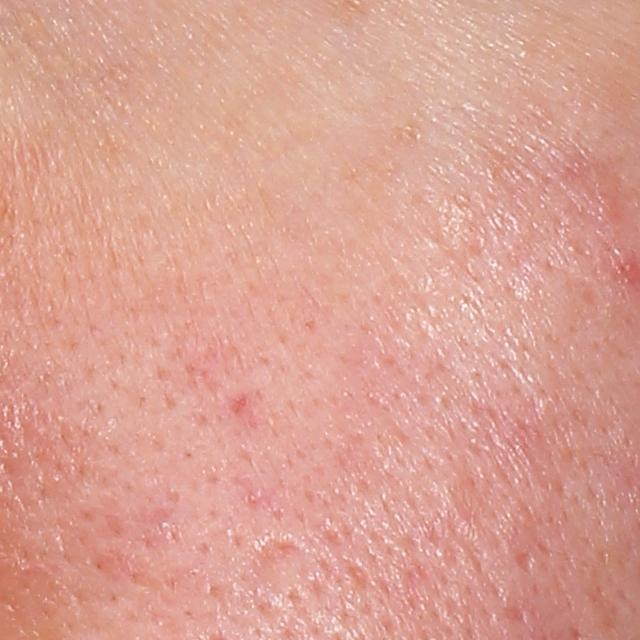atrophic_scar: (247, 536, 309, 572), (444, 476, 480, 535), (513, 551, 534, 575)
